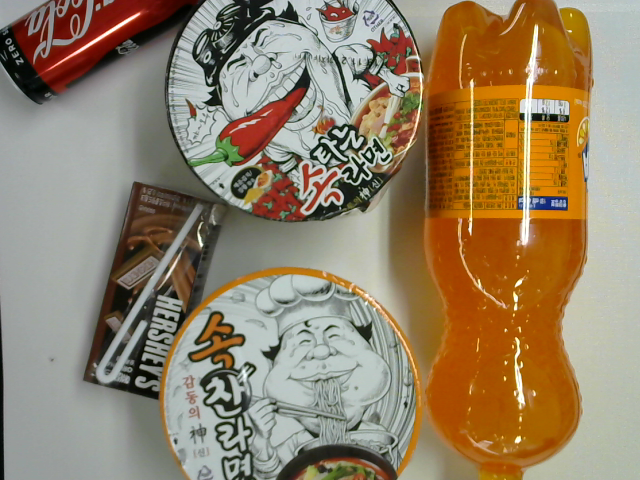Coca_Cola_Zero_Can_250ml: (2, 1, 205, 110)
HeJangsock: (166, 1, 421, 225)
Hejangchan: (160, 266, 422, 480)
Hush_Choco_Drink: (86, 176, 210, 405)
Hwanta_Orange_1.5L: (421, 1, 599, 479)
